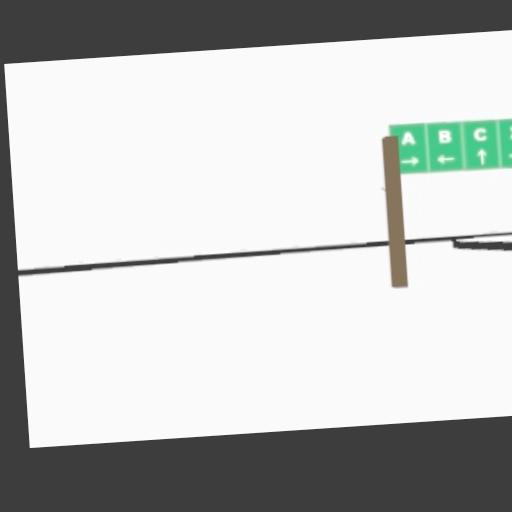A: (401, 131, 415, 146)
B: (438, 130, 452, 144)
C: (474, 128, 488, 142)
Left: (437, 153, 456, 165)
Right: (400, 156, 419, 167), (508, 150, 512, 161)
Straight: (477, 149, 488, 166)
X: (509, 125, 512, 139)
